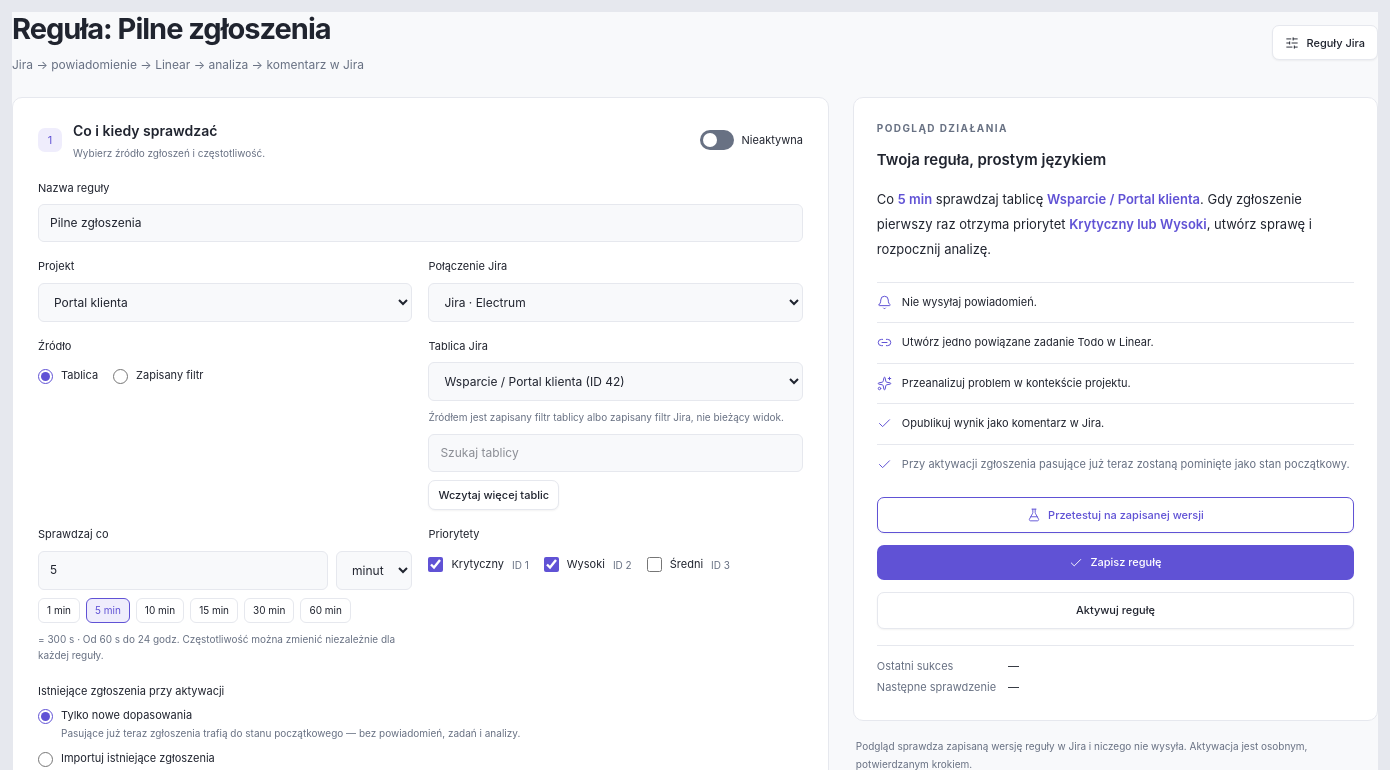
T24.2 pickery Jira i Linear z jawnymi ID › zapisany filtr jest osobnym źródłem z jawnym ID
Expected: the heading "Reguła: Pilne zgłoszenia" is shown, [12, 12, 364, 47]
Expected: the dropdown labelled "Tablica Jira" shows "Wsparcie / Portal klienta (ID 42)", [428, 362, 803, 402]
Click the radio button labelled "Zapisany filtr". click: [121, 376]
box: [113, 369, 128, 384]
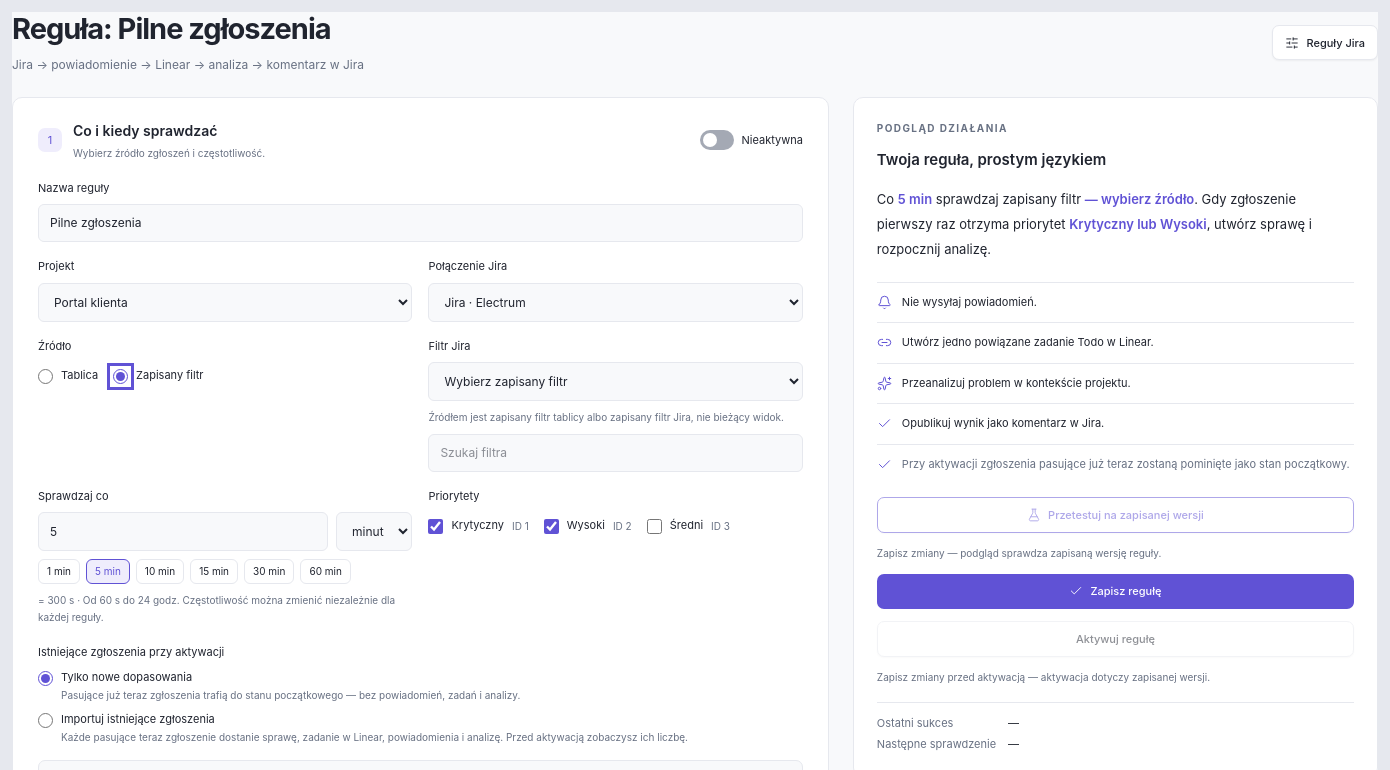
Result: the dropdown labelled "Filtr Jira" shows "Wybierz zapisany filtr" at [428, 362, 803, 402]
